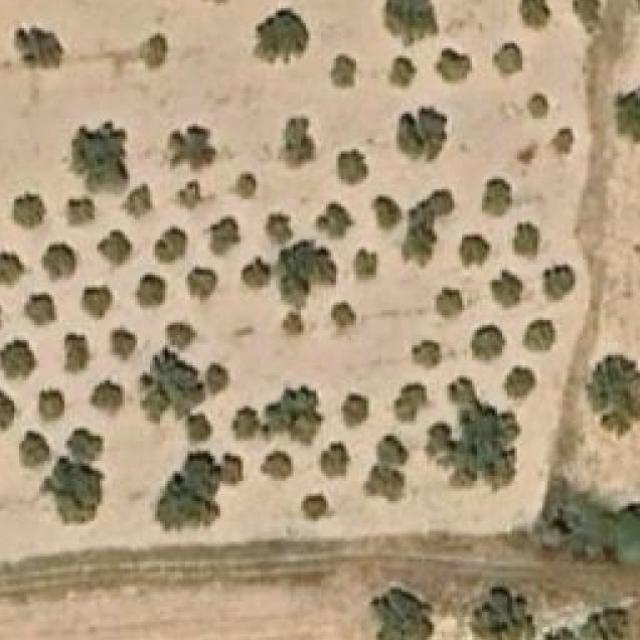Tree: (427, 406, 520, 494), (158, 451, 244, 529), (233, 380, 324, 449), (401, 186, 462, 265), (584, 355, 640, 433), (468, 581, 537, 640), (44, 461, 105, 524), (143, 355, 203, 419), (359, 434, 410, 504), (74, 122, 128, 187), (250, 8, 309, 66), (371, 586, 434, 640), (278, 239, 336, 295), (396, 107, 447, 170), (379, 0, 439, 48), (170, 124, 215, 167), (490, 268, 535, 311), (279, 117, 314, 172), (14, 28, 62, 66), (394, 383, 438, 424), (86, 378, 125, 424), (0, 338, 39, 381), (140, 31, 177, 74), (537, 265, 578, 303), (457, 232, 500, 268), (326, 302, 366, 340), (615, 83, 640, 142), (517, 0, 561, 33), (492, 41, 525, 85), (173, 179, 216, 212), (434, 48, 472, 84), (470, 325, 505, 363), (319, 441, 352, 481), (70, 426, 104, 464), (506, 366, 540, 404), (14, 192, 47, 230), (480, 179, 513, 217), (110, 325, 143, 363), (22, 293, 57, 328), (62, 194, 98, 228), (155, 225, 188, 262), (372, 195, 404, 232), (98, 230, 132, 264), (42, 240, 76, 274), (135, 275, 168, 310), (210, 214, 238, 255), (512, 222, 540, 263), (339, 149, 369, 187), (546, 126, 576, 164), (522, 320, 556, 353), (352, 247, 382, 284), (64, 333, 90, 373), (123, 184, 153, 218), (82, 285, 112, 318), (21, 431, 49, 466), (0, 387, 21, 433), (260, 451, 294, 479), (341, 394, 369, 428), (188, 268, 218, 298), (319, 208, 349, 238), (160, 320, 195, 345), (301, 491, 328, 523), (228, 171, 258, 199), (412, 340, 442, 368), (572, 0, 600, 30), (328, 56, 356, 86), (240, 260, 268, 290), (40, 386, 64, 420), (262, 215, 290, 242), (0, 250, 19, 288), (390, 54, 412, 86), (437, 287, 462, 315), (183, 418, 208, 444), (530, 92, 550, 122), (518, 139, 538, 167), (208, 366, 228, 390)
